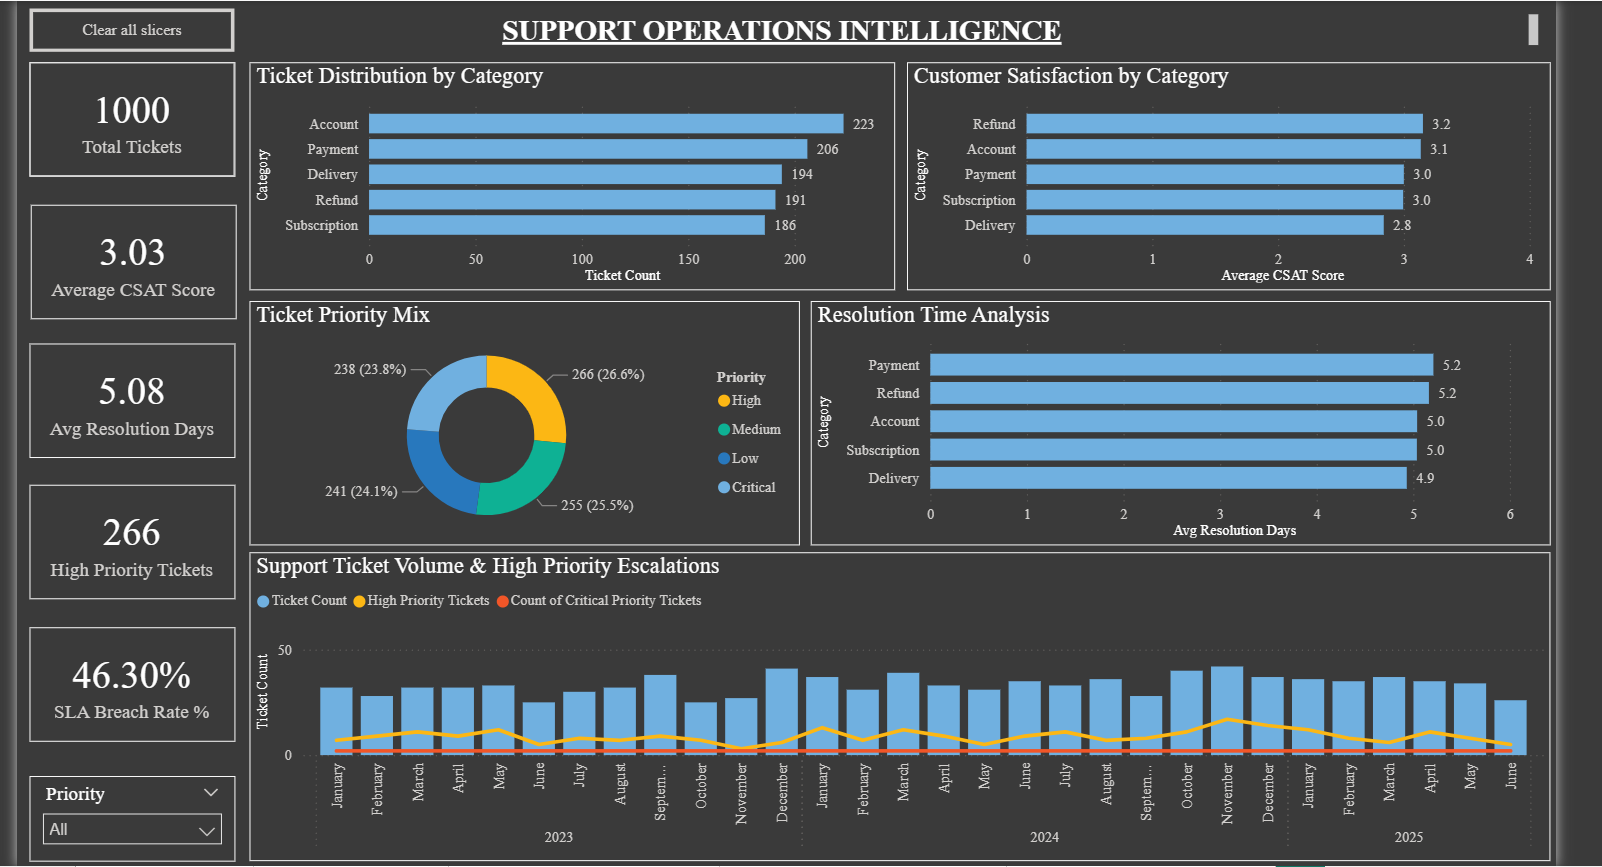

What the dashboard file says about the page in this screenshot:
{"tool":"powerbi","page":{"name":"Support Operations Intelligence","canvas":[1280,720],"ordinal":4},"visuals":[{"type":"textbox","box":[10.4,6.2,1259.6,36.4],"z":0},{"type":"card","fields":{"Values":["KPI Measures.Total Tickets"]},"box":[10,51.2,171,94.8],"z":1000},{"type":"card","fields":{"Values":["KPI Measures.Average CSAT Score"]},"box":[11.2,169.7,171,94.8],"z":2000},{"type":"card","fields":{"Values":["KPI Measures.Avg Resolution Days"]},"box":[10,284.5,171,94.8],"z":3000},{"type":"card","fields":{"Values":["support_tickets.High Priority Tickets"]},"box":[10,401.8,171,94.8],"z":4000},{"type":"barChart","title":"Ticket Distribution by Category","fields":{"Category":["support_tickets.category"],"Y":["Count(support_tickets.ticket_id)"]},"box":[193.4,51.2,536.6,189.7],"z":5000},{"type":"donutChart","title":"Ticket Priority Mix","fields":{"Category":["support_tickets.priority"],"Y":["Count(support_tickets.ticket_id)"]},"box":[193.4,249.6,457.9,203.4],"z":6000},{"type":"barChart","title":"Customer Satisfaction by Category","fields":{"Category":["support_tickets.category"],"Y":["KPI Measures.Average CSAT Score"]},"box":[740,51.2,535.3,189.7],"z":7000},{"type":"barChart","title":"Resolution Time Analysis","fields":{"Category":["support_tickets.category"],"Y":["KPI Measures.Avg Resolution Days"]},"box":[660.1,249.6,615.2,203.4],"z":8000},{"type":"lineStackedColumnComboChart","title":"Support Ticket Volume & High Priority Escalations","fields":{"Category":["support_tickets.created_date.Variation.Date Hierarchy.Year","support_tickets.created_date.Variation.Date Hierarchy.Month"],"Y":["Count(support_tickets.ticket_id)"],"Y2":["support_tickets.High Priority Tickets","Count(support_tickets.Critical Priority Tickets)"]},"box":[193.4,457.9,1081.9,257],"z":9000},{"type":"slicer","fields":{"Values":["support_tickets.priority"]},"box":[10,643.9,171,71.1],"z":9001},{"type":"actionButton","box":[10.4,6.2,170.4,36.4],"z":9002},{"type":"card","fields":{"Values":["support_tickets.SLA Breach Rate %"]},"box":[10,520.3,171,94.8],"z":9003}]}

Visuals, with their boxes on the page's 1280x720 design canvas (x1, y1, x2, y2). These are canvas units, not pixel positions in the 1602x867 screenshot, which may show the page scaled, cropped or inside an application window:
textbox: [left=10, top=6, right=1270, bottom=43]
card - KPI Measures.Total Tickets: [left=10, top=51, right=181, bottom=146]
card - KPI Measures.Average CSAT Score: [left=11, top=170, right=182, bottom=264]
card - KPI Measures.Avg Resolution Days: [left=10, top=284, right=181, bottom=379]
card - support_tickets.High Priority Tickets: [left=10, top=402, right=181, bottom=497]
"Ticket Distribution by Category" barChart: [left=193, top=51, right=730, bottom=241]
"Ticket Priority Mix" donutChart: [left=193, top=250, right=651, bottom=453]
"Customer Satisfaction by Category" barChart: [left=740, top=51, right=1275, bottom=241]
"Resolution Time Analysis" barChart: [left=660, top=250, right=1275, bottom=453]
"Support Ticket Volume & High Priority Escalations" lineStackedColumnComboChart: [left=193, top=458, right=1275, bottom=715]
slicer - support_tickets.priority: [left=10, top=644, right=181, bottom=715]
actionButton: [left=10, top=6, right=181, bottom=43]
card - support_tickets.SLA Breach Rate %: [left=10, top=520, right=181, bottom=615]
